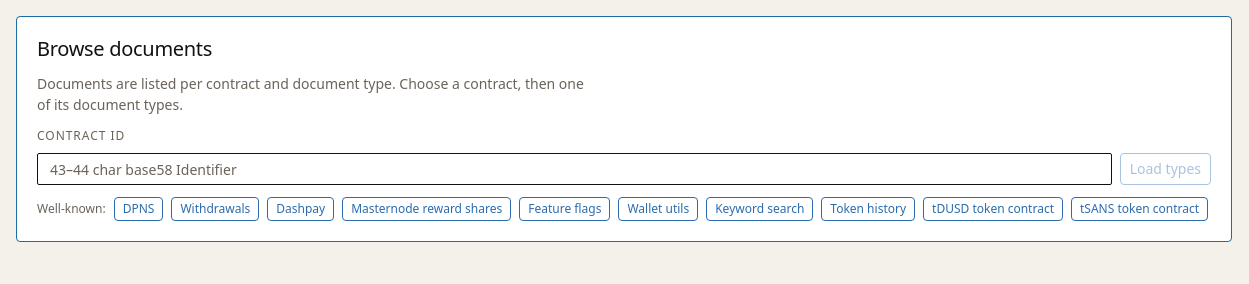
Scenario: documents landing › validates the contract ID before loading
The image size is (1249, 284).
Type "nope" into the field labelled "Contract ID" at [574, 169], box [37, 153, 1112, 185]
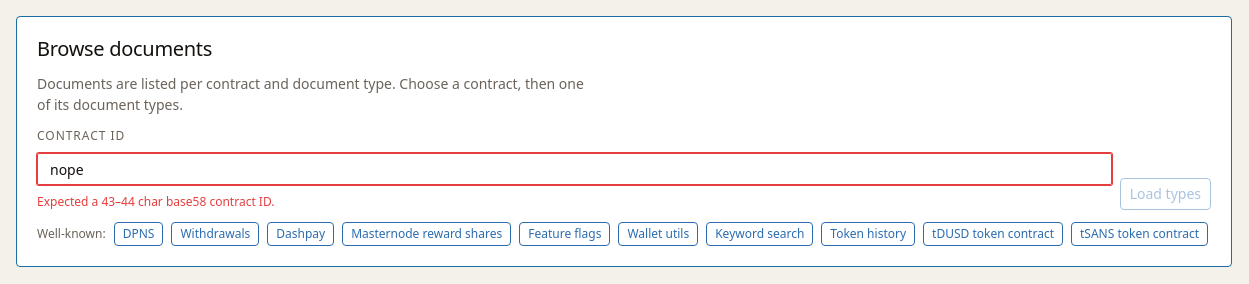
Expected: the button "Load types" is disabled, [1120, 178, 1211, 210]
Expected: the text "Expected a 43–44 char base58 contract ID." is shown, [37, 193, 274, 210]
